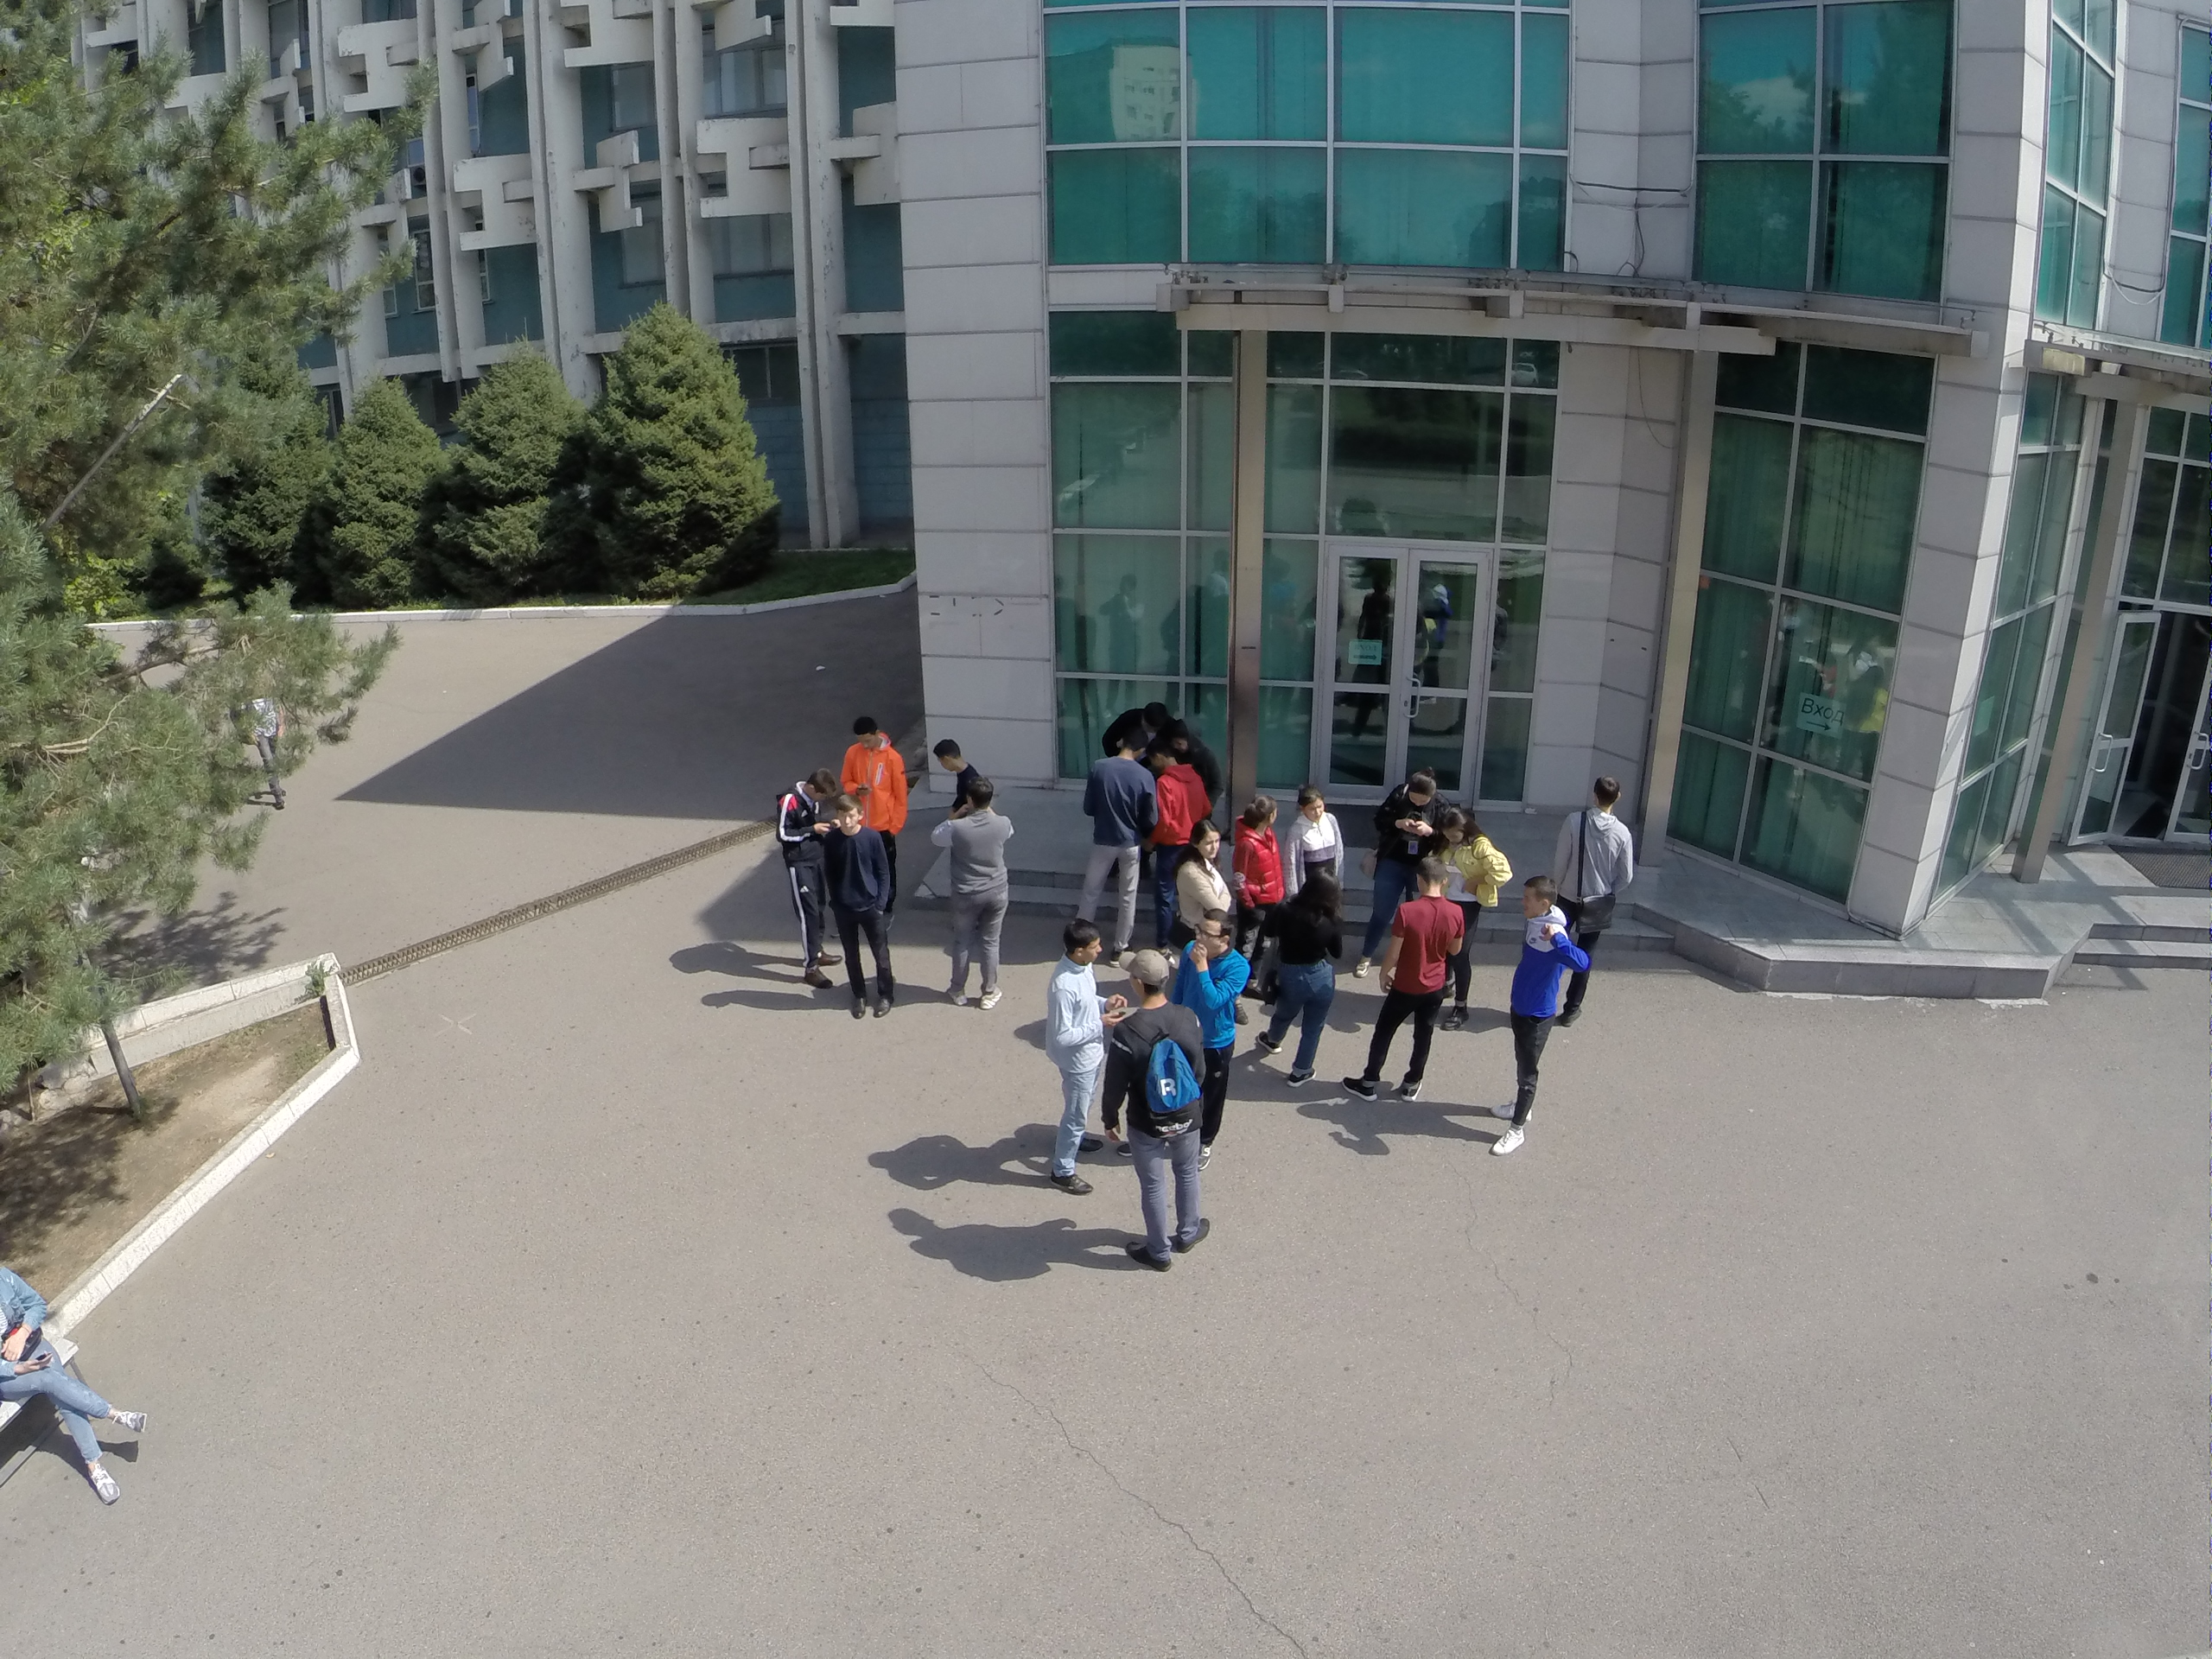person: (1344, 849, 1467, 1117), (1121, 943, 1214, 1272), (1476, 868, 1577, 1170), (1243, 887, 1344, 1094), (1351, 770, 1449, 985), (1041, 912, 1113, 1192), (1560, 781, 1637, 1026), (1178, 902, 1245, 1152), (946, 779, 1008, 1017), (1084, 736, 1150, 916), (785, 767, 836, 995), (842, 791, 890, 1020), (1227, 791, 1287, 928), (845, 702, 900, 810), (1440, 806, 1493, 918), (1178, 803, 1224, 918), (1291, 791, 1342, 885), (1153, 753, 1193, 832), (931, 729, 976, 786)
